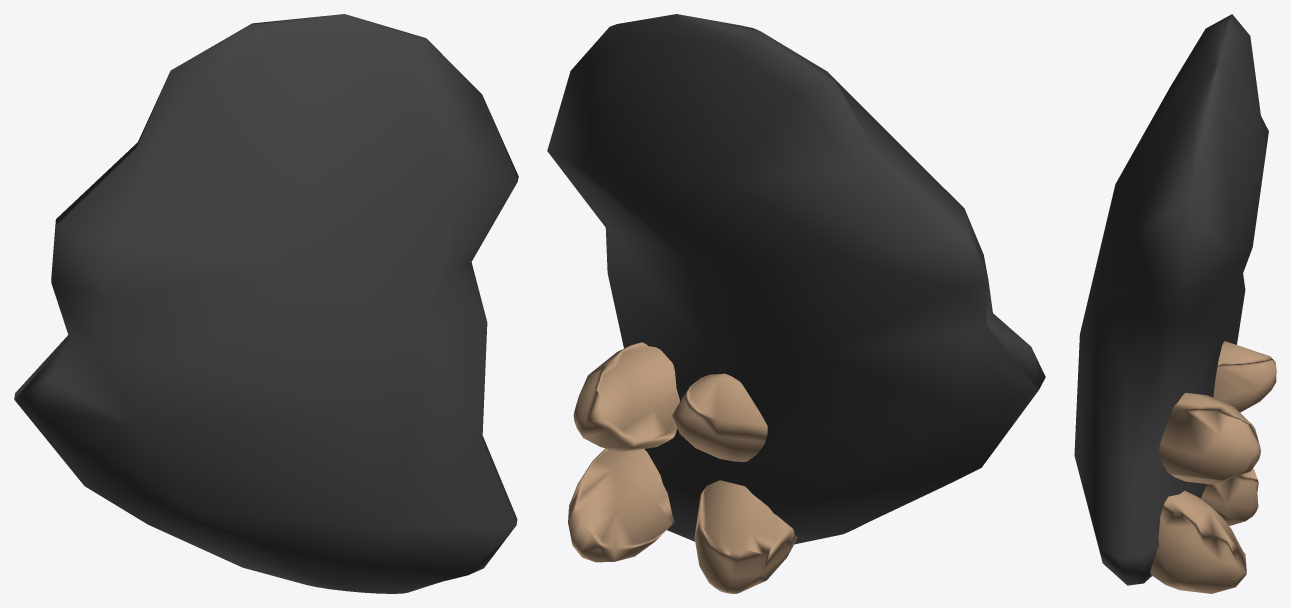
The model's file is hand_parrot_optimized60.glb.
3 renders of one model, left to right at view 1: azimuth 30°, elevation 25°; view 2: azimuth 150°, elevation 25°; view 3: azimuth 270°, elevation 25°, orthographic. The views are drawn at different scales.
Parts seen in each view (by area): view 1: CombinedMesh_MaterialSlots; view 2: CombinedMesh_MaterialSlots; view 3: CombinedMesh_MaterialSlots.
Boxes of the visible parts, x1,y1,x2,y2 form: CombinedMesh_MaterialSlots: (14,14,518,593); CombinedMesh_MaterialSlots: (547,14,1045,593); CombinedMesh_MaterialSlots: (1074,14,1276,593).
Size of the model in its own units: 3.7 by 4.03 by 1.48.
